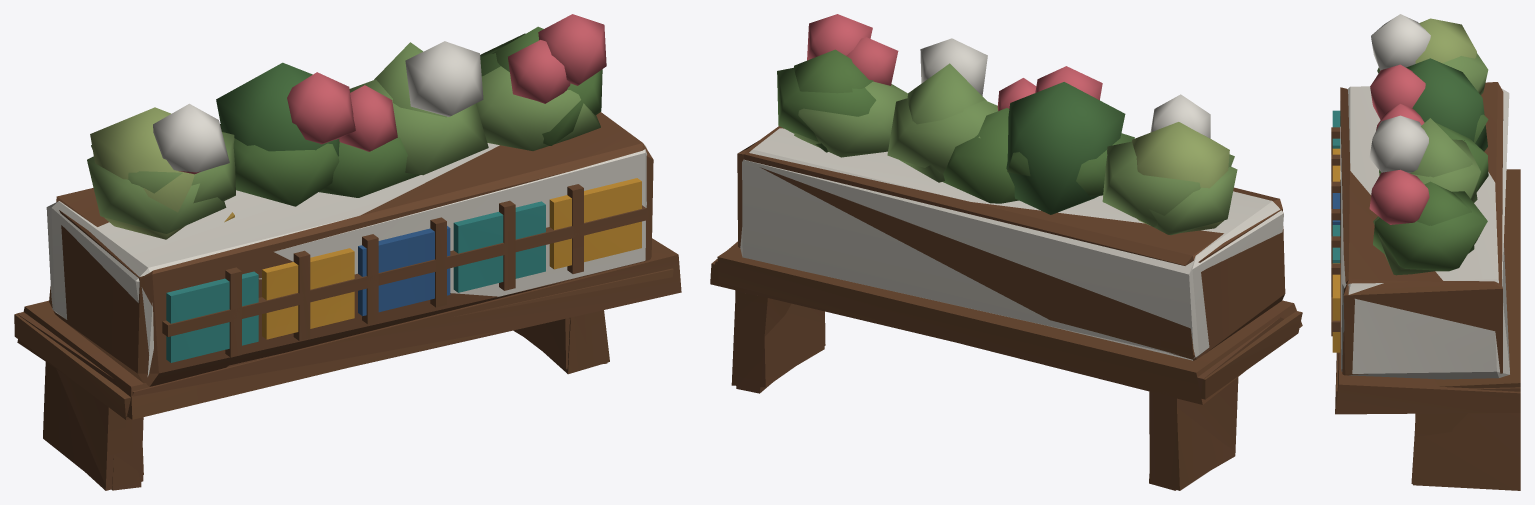
The model's file is flowerbox.glb.
3 renders of one model, left to right at view 1: azimuth 30°, elevation 25°; view 2: azimuth 150°, elevation 25°; view 3: azimuth 270°, elevation 25°, orthographic. The views are drawn at different scales.
Visible parts, largest first — view 1: flowerbox.v2.mesh, flowerbox.v0.mesh, flowerbox.v1.mesh; view 2: flowerbox.v0.mesh, flowerbox.v2.mesh, flowerbox.v1.mesh; view 3: flowerbox.v2.mesh, flowerbox.v0.mesh, flowerbox.v1.mesh.
Part boxes in pixels (<box>): flowerbox.v2.mesh: <box>14,14,653,490</box>; flowerbox.v0.mesh: <box>17,26,673,487</box>; flowerbox.v1.mesh: <box>16,40,681,490</box>; flowerbox.v0.mesh: <box>717,49,1302,490</box>; flowerbox.v2.mesh: <box>715,14,1302,490</box>; flowerbox.v1.mesh: <box>710,37,1283,484</box>; flowerbox.v2.mesh: <box>1331,14,1520,490</box>; flowerbox.v0.mesh: <box>1332,18,1520,484</box>; flowerbox.v1.mesh: <box>1335,53,1520,414</box>.
Bounding box in the file's own units: 0.6934 × 0.4532 × 0.252.
